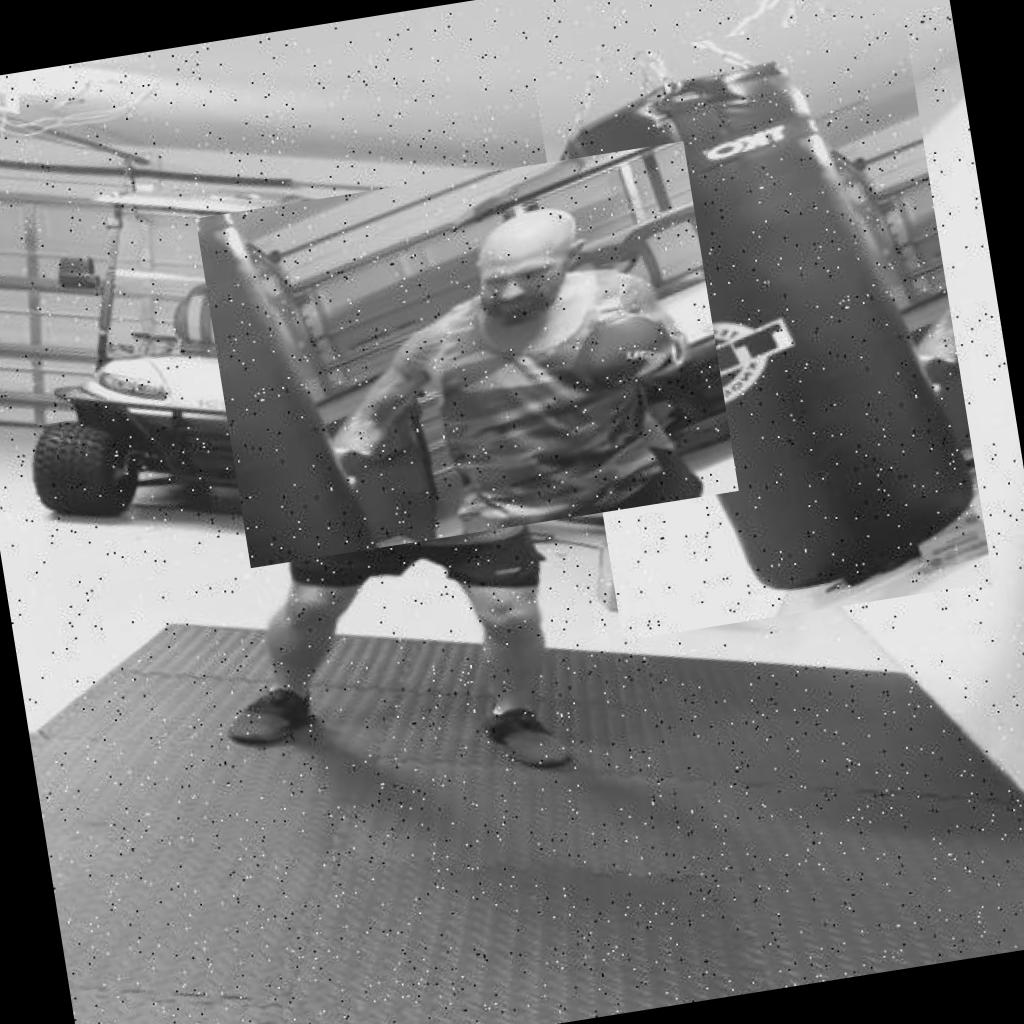bag: (532, 9, 993, 640)
hook: (196, 141, 739, 568)
